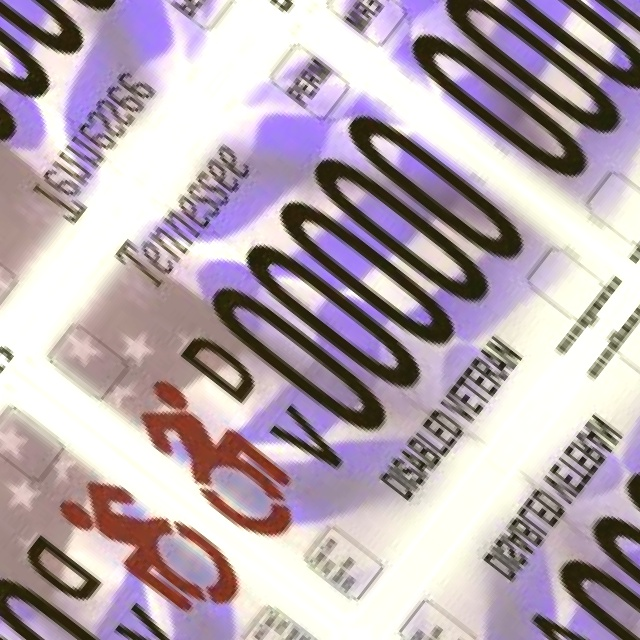ISA: (53, 456, 251, 632), (117, 374, 315, 550)
